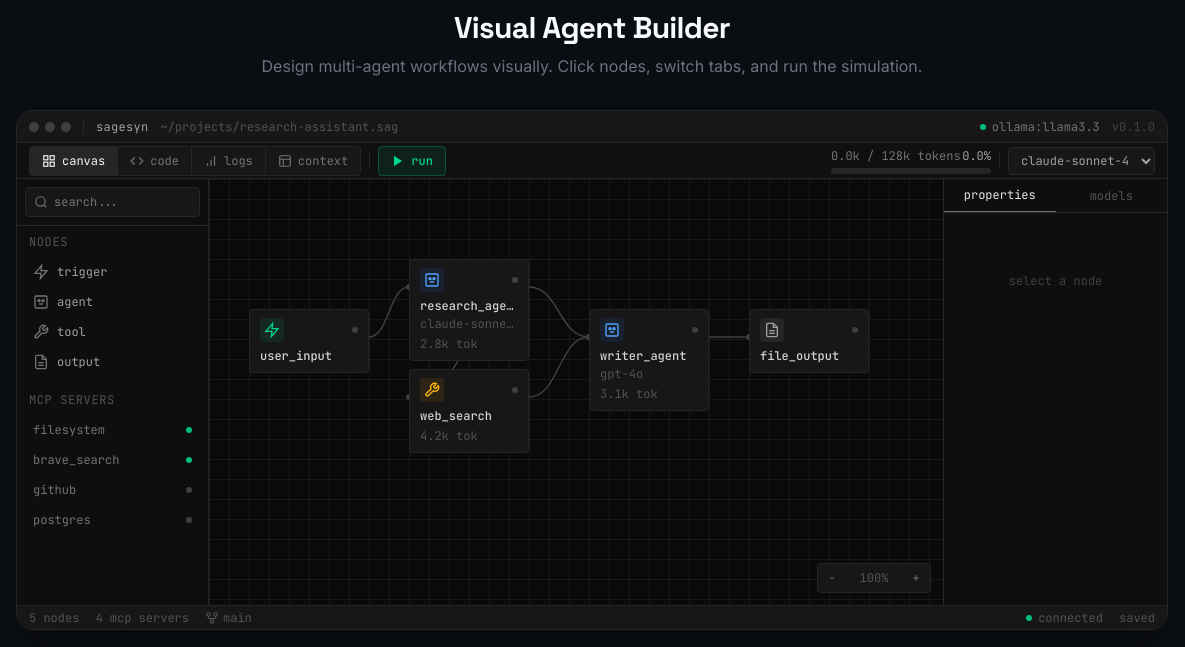
Test: IDEPreview › selects node and shows properties when clicked
Click the text "research_agent": (469, 306) [420,298,518,314]
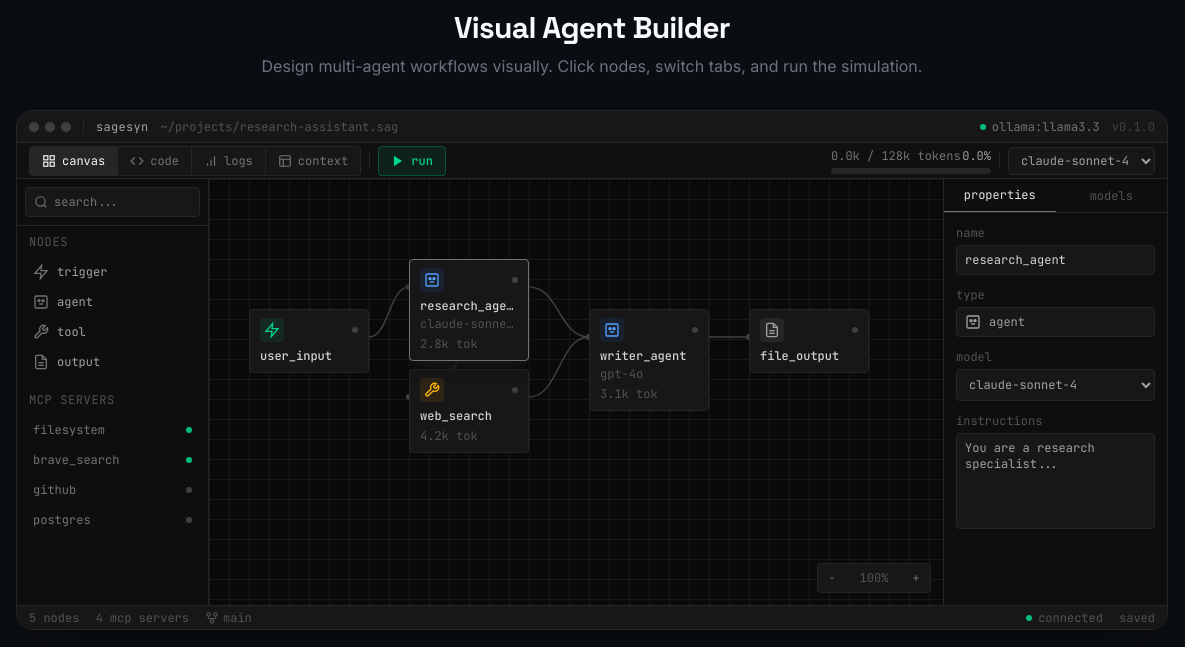
Expected: the field showing "research_agent" is shown, [956,245,1155,275]
